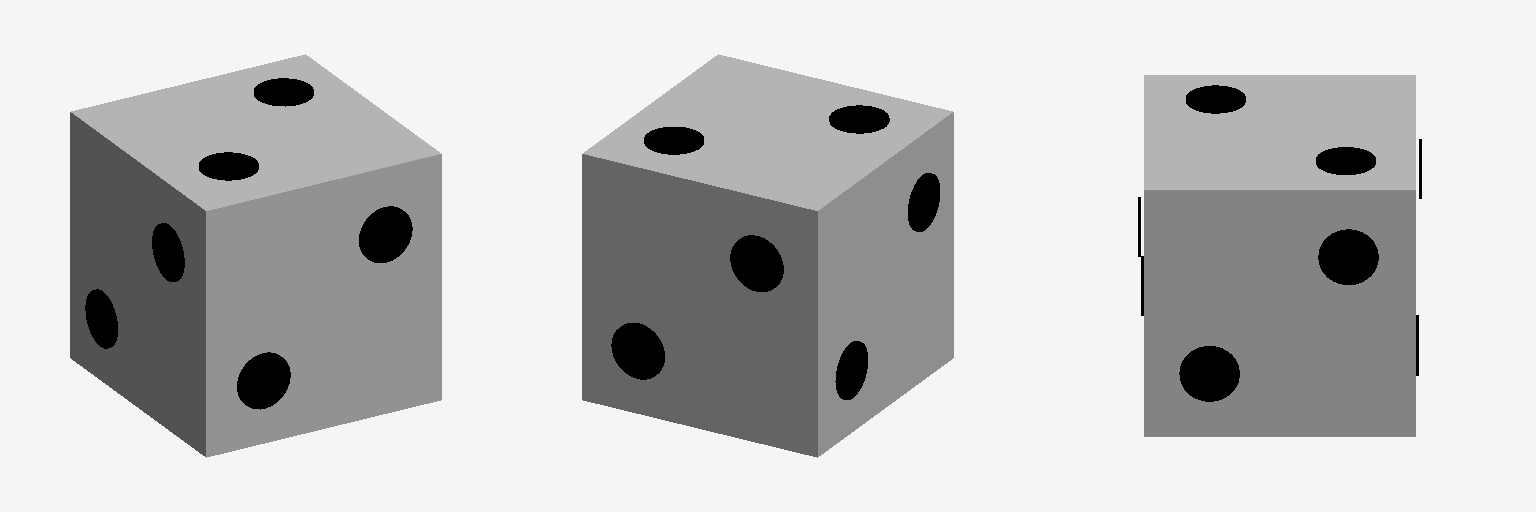
The model's file is dice_2.obj.
The picture shows the model from 3 angles: view 1: azimuth 30°, elevation 25°; view 2: azimuth 150°, elevation 25°; view 3: azimuth 270°, elevation 25°; orthographic projection.
Parts seen in each view (by area): view 1: Shape_IndexedFaceSet.002, Shape_IndexedFaceSet.008, Shape_IndexedFaceSet.003, Shape_IndexedFaceSet.012, Shape_IndexedFaceSet.005, Shape_IndexedFaceSet.010, Shape_IndexedFaceSet.006; view 2: Shape_IndexedFaceSet.002, Shape_IndexedFaceSet.001, Shape_IndexedFaceSet, Shape_IndexedFaceSet.005, Shape_IndexedFaceSet.012, Shape_IndexedFaceSet.010, Shape_IndexedFaceSet.006; view 3: Shape_IndexedFaceSet.002, Shape_IndexedFaceSet.004, Shape_IndexedFaceSet.009, Shape_IndexedFaceSet.010, Shape_IndexedFaceSet.006.
Boxes of the visible parts, box(x1,y1,x2,y2) form: Shape_IndexedFaceSet.002: box(70, 54, 441, 457); Shape_IndexedFaceSet.008: box(359, 206, 412, 262); Shape_IndexedFaceSet.003: box(237, 352, 290, 409); Shape_IndexedFaceSet.012: box(152, 223, 184, 281); Shape_IndexedFaceSet.005: box(85, 289, 117, 348); Shape_IndexedFaceSet.010: box(199, 152, 258, 180); Shape_IndexedFaceSet.006: box(254, 78, 313, 106); Shape_IndexedFaceSet.002: box(582, 54, 953, 457); Shape_IndexedFaceSet.001: box(730, 235, 783, 291); Shape_IndexedFaceSet: box(611, 323, 664, 379); Shape_IndexedFaceSet.005: box(835, 341, 867, 399); Shape_IndexedFaceSet.012: box(908, 173, 939, 231); Shape_IndexedFaceSet.010: box(829, 105, 889, 133); Shape_IndexedFaceSet.006: box(644, 127, 703, 154); Shape_IndexedFaceSet.002: box(1144, 75, 1415, 436); Shape_IndexedFaceSet.004: box(1179, 346, 1239, 401); Shape_IndexedFaceSet.009: box(1318, 229, 1378, 284); Shape_IndexedFaceSet.010: box(1186, 85, 1245, 113); Shape_IndexedFaceSet.006: box(1316, 147, 1375, 174).
Bounding box in the file's own units: 0.239 × 0.239 × 0.239.